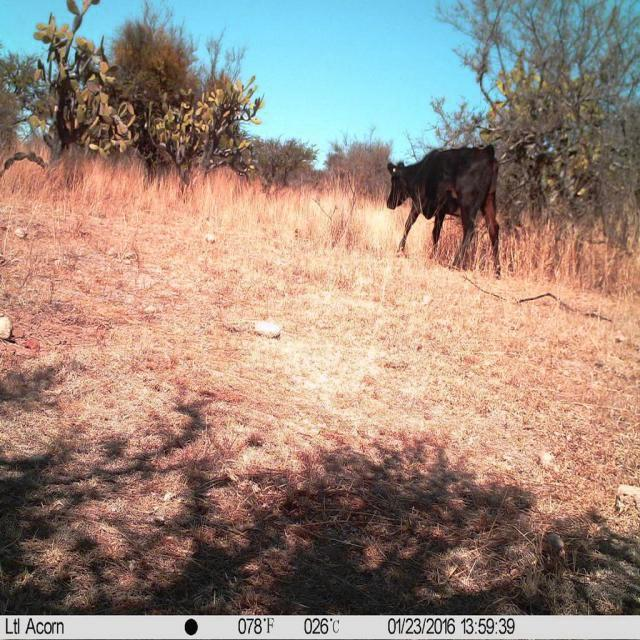cow: (388, 145, 500, 274)
